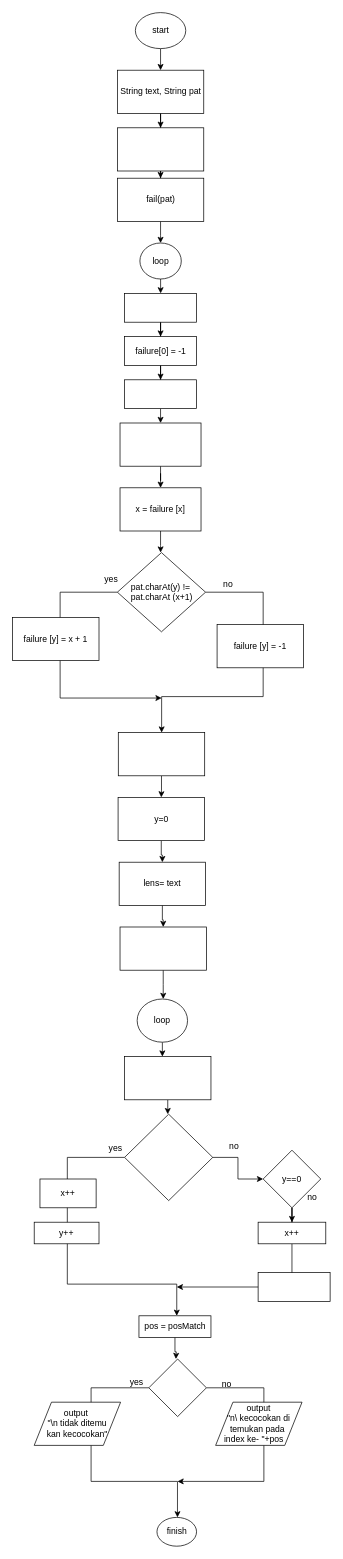
Image size: 343x1559. Some labels were removed from this diagram. The centre of each missing label's shape, as x and y in pixels:
(pat.charAt(y) !=pat. charAt(x+1) && x >= 0: point 160,444
failure = new int: point 160,149
lenp= pat: point 162,948
pos== -1: point 177,1387
text.charAt(x) == pat.charAt(y): point 168,1157
x < lens && y < lenp: point 167,1078
x=0: point 161,754
y = 1: point 160,394
y=failure[y-1]+1: point 293,1286
z = pat: point 160,307
